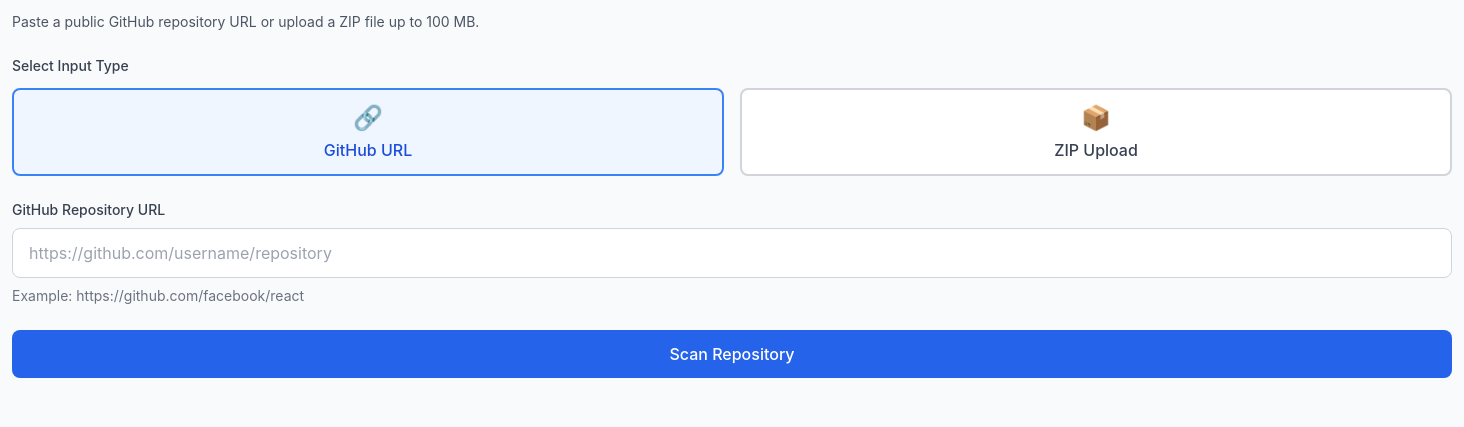
Scenario: ScanForm › shows validation error for empty GitHub URL
The width and height of the screenshot is (1464, 427).
// Submit without entering URL
Click the button with aria-label "Start repository scan". click: [732, 354]
box: [12,330,1452,378]
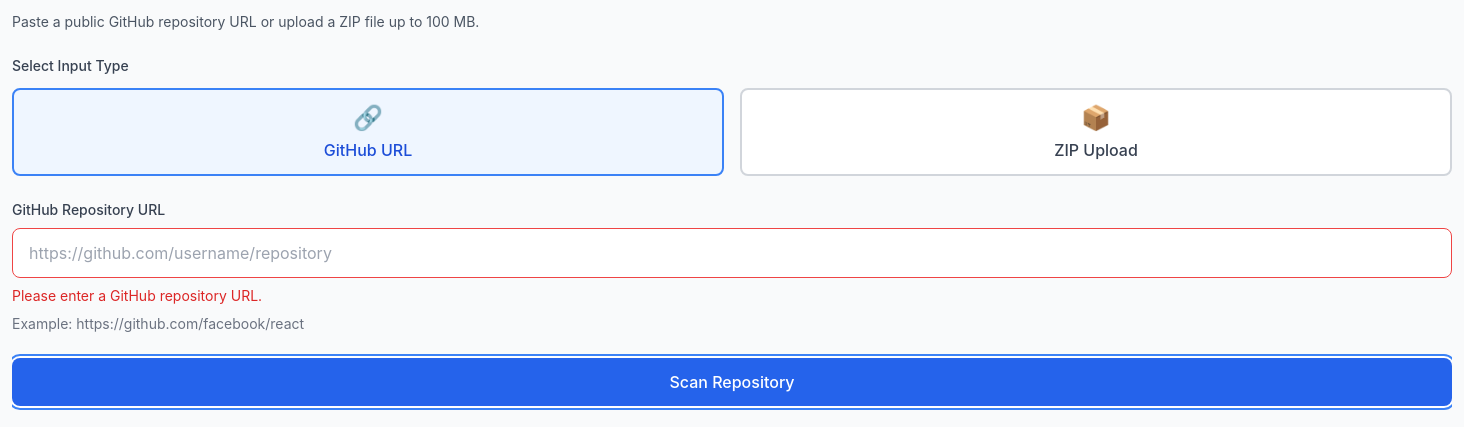
Expected: the text "Please enter a GitHub repository URL." is shown, [12,287,262,304]
